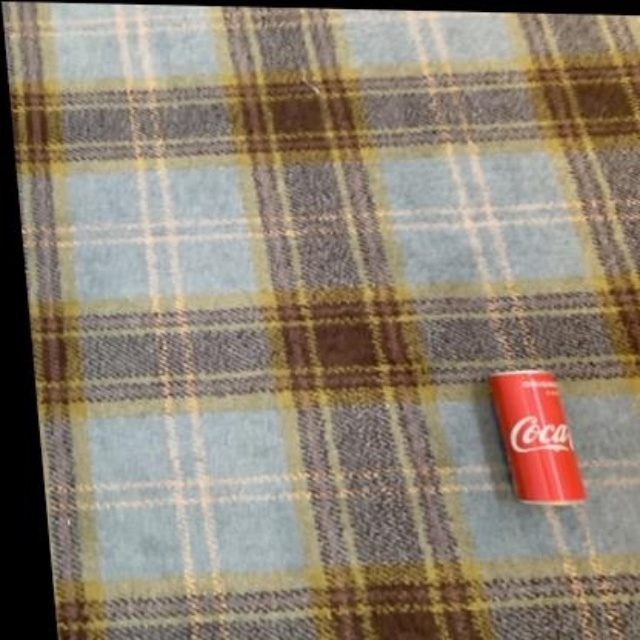trash: (491, 371, 585, 503)
